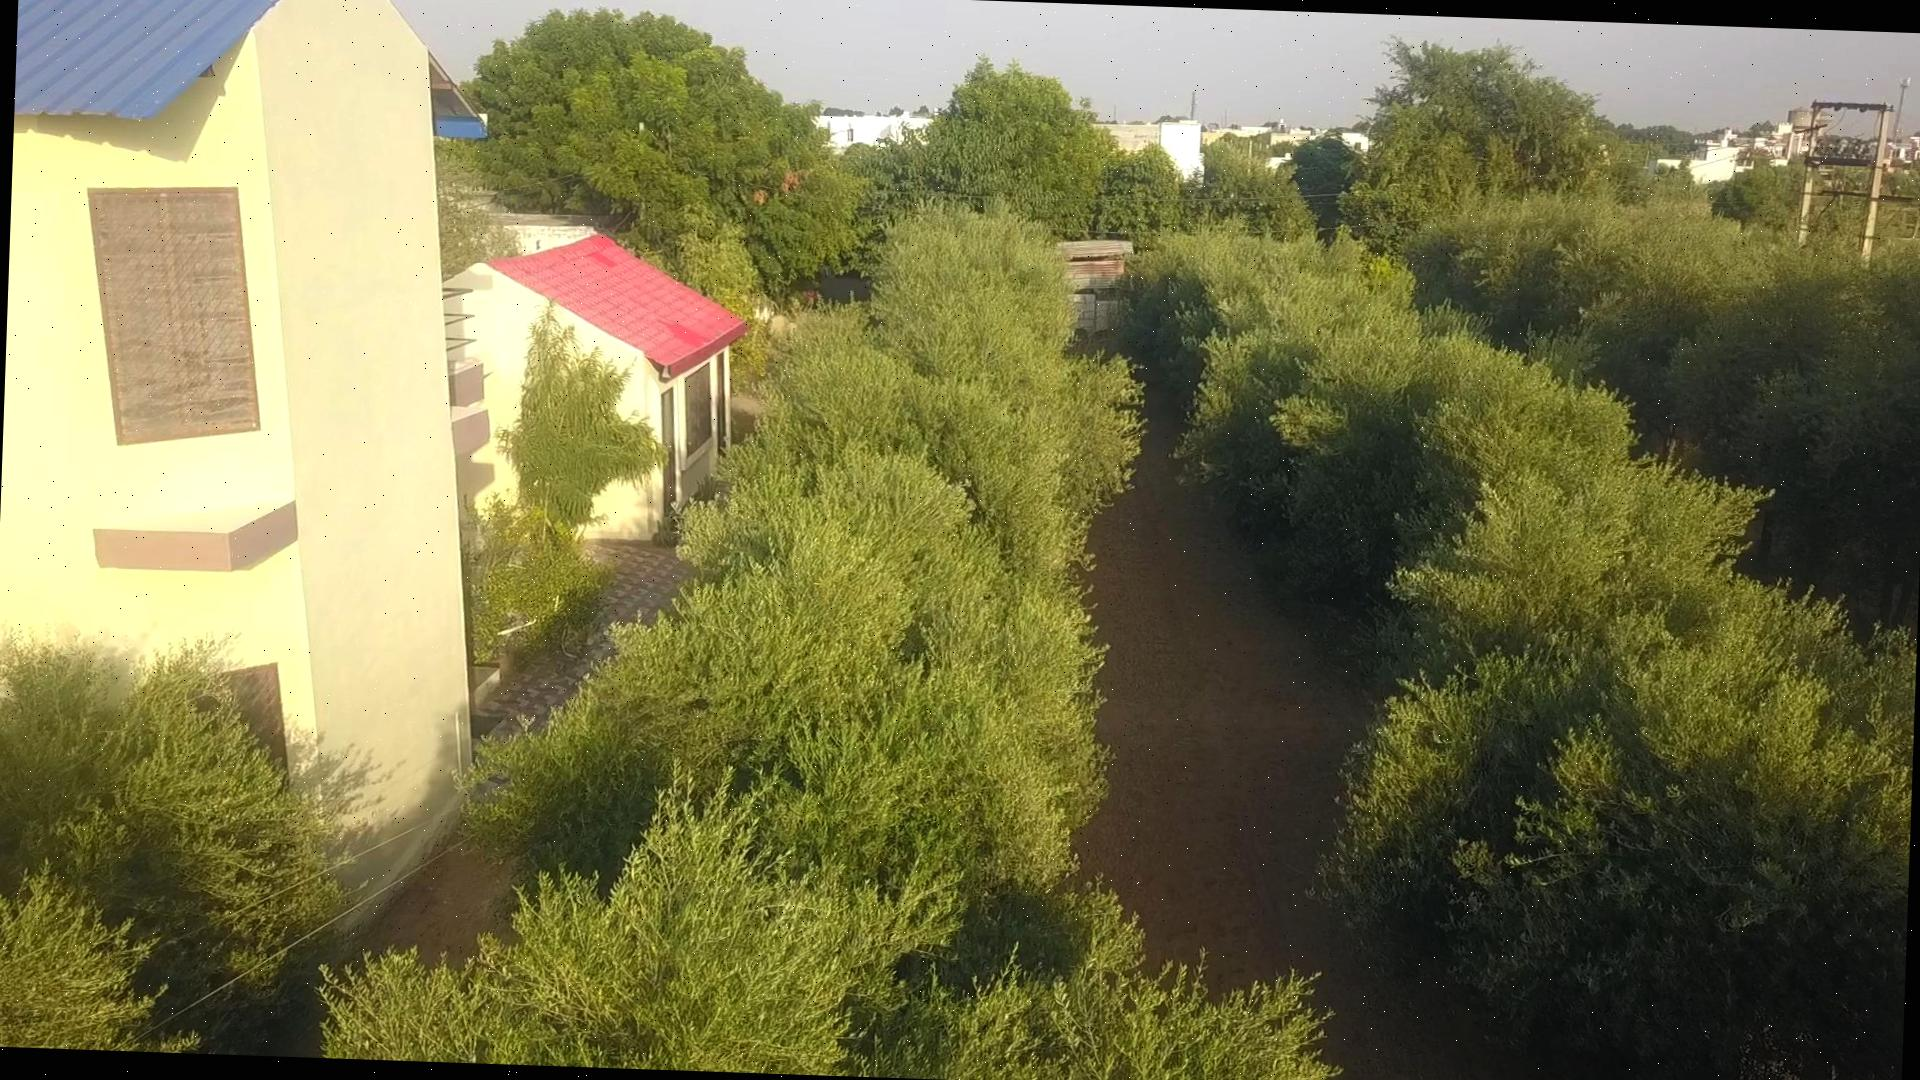canopy: (323, 207, 1333, 1080), (1120, 229, 1916, 1080), (1403, 194, 1920, 633)
road: (1076, 389, 1556, 1080)
